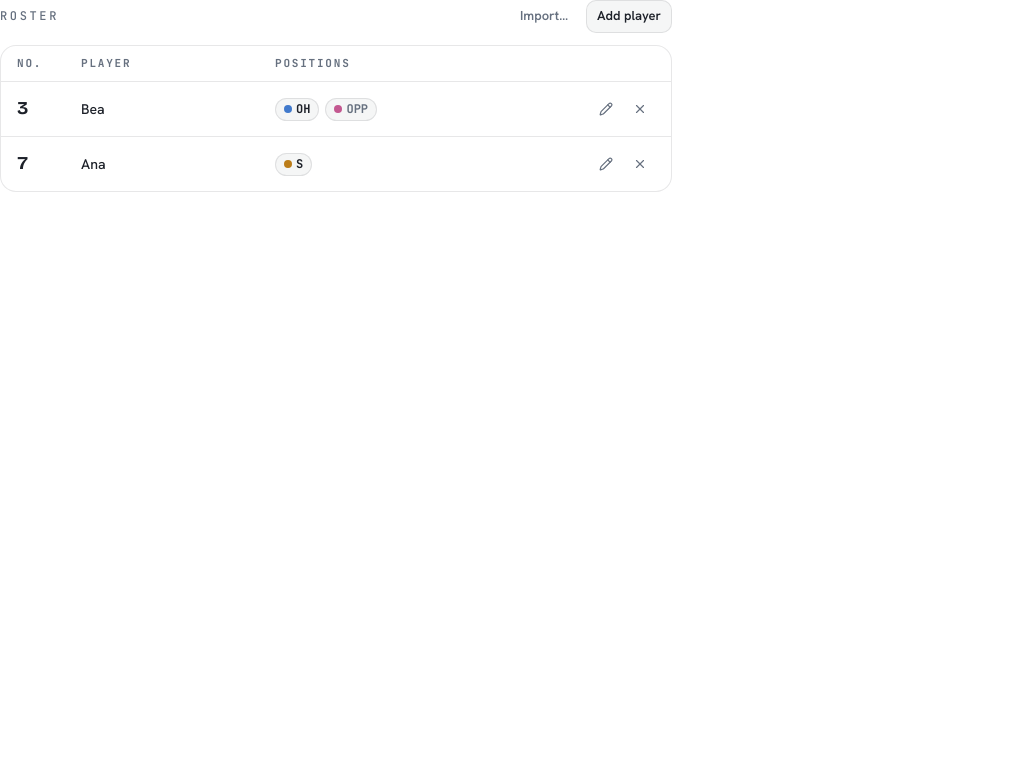
RosterSection › a taken number keeps the dialog open with the reason
Click the button named "Edit #7" at {"x": 606, "y": 164}, box [591,149,621,179]
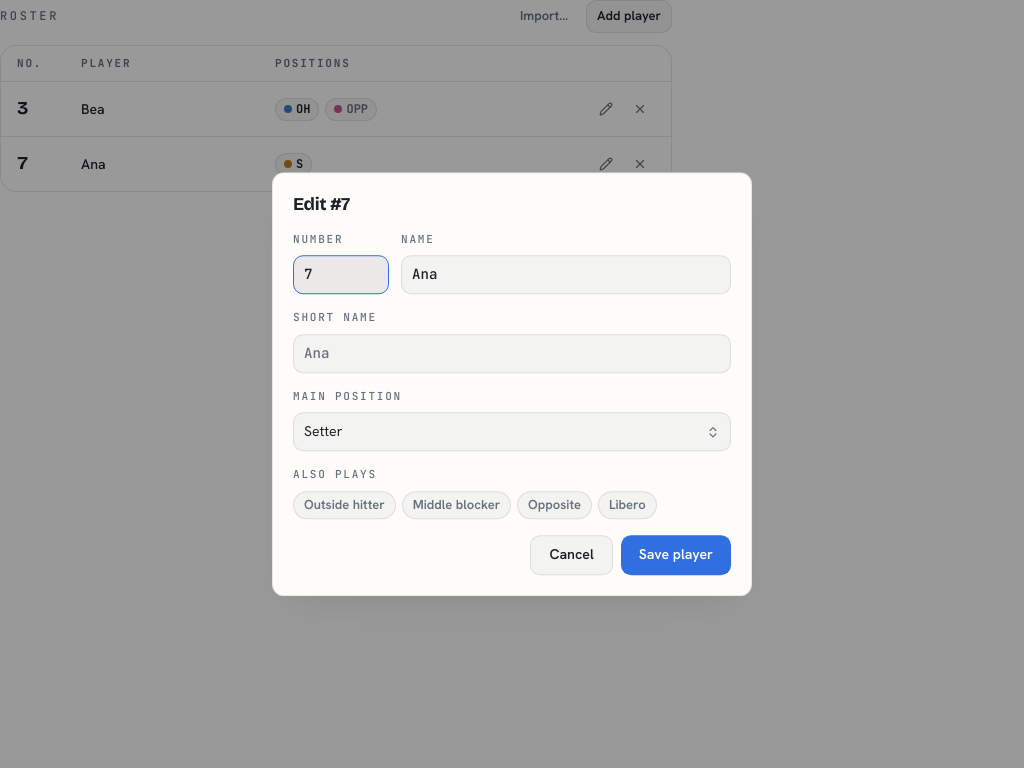
Replace the text in the field labelled "Number" with "3" at {"x": 341, "y": 275}, box [293,255,389,294]
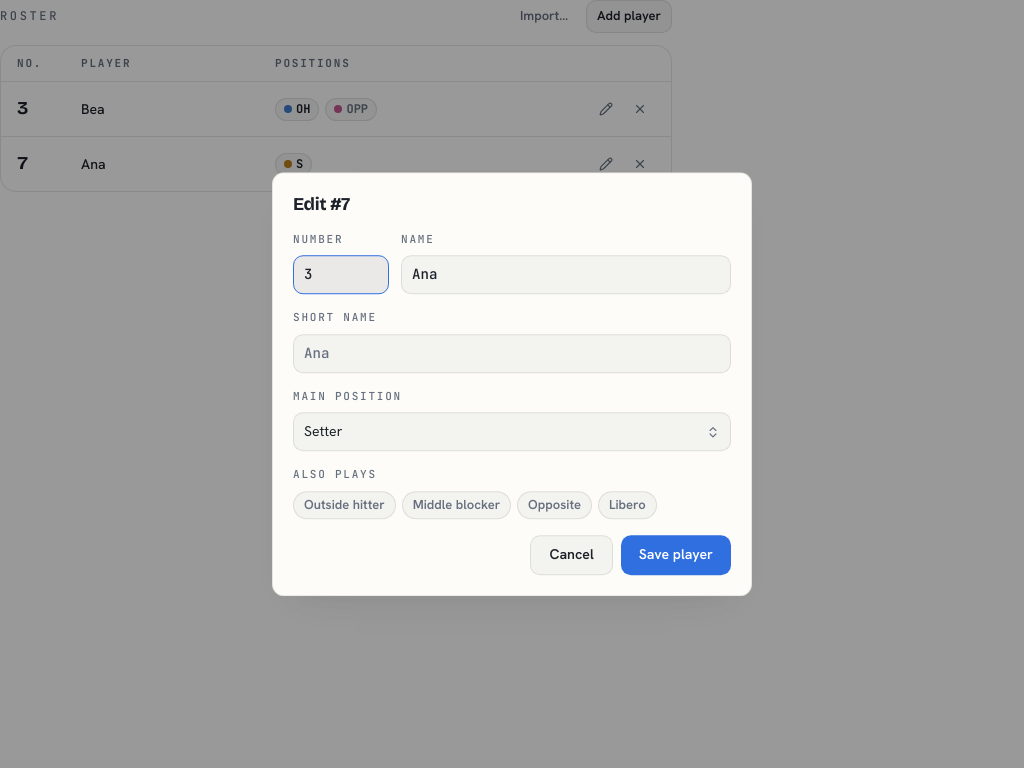
Click the button "Save player" at {"x": 676, "y": 555}, box [621,536,731,575]
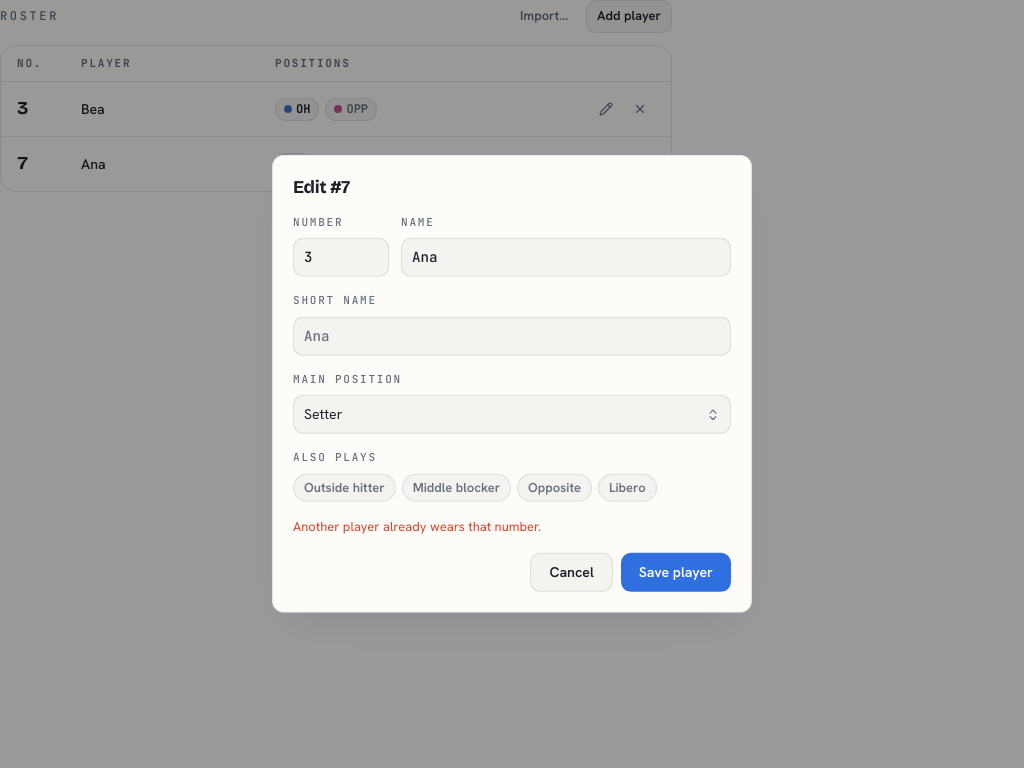
Result: the text "Another player already wears that number." is shown at [293,518,541,535]
